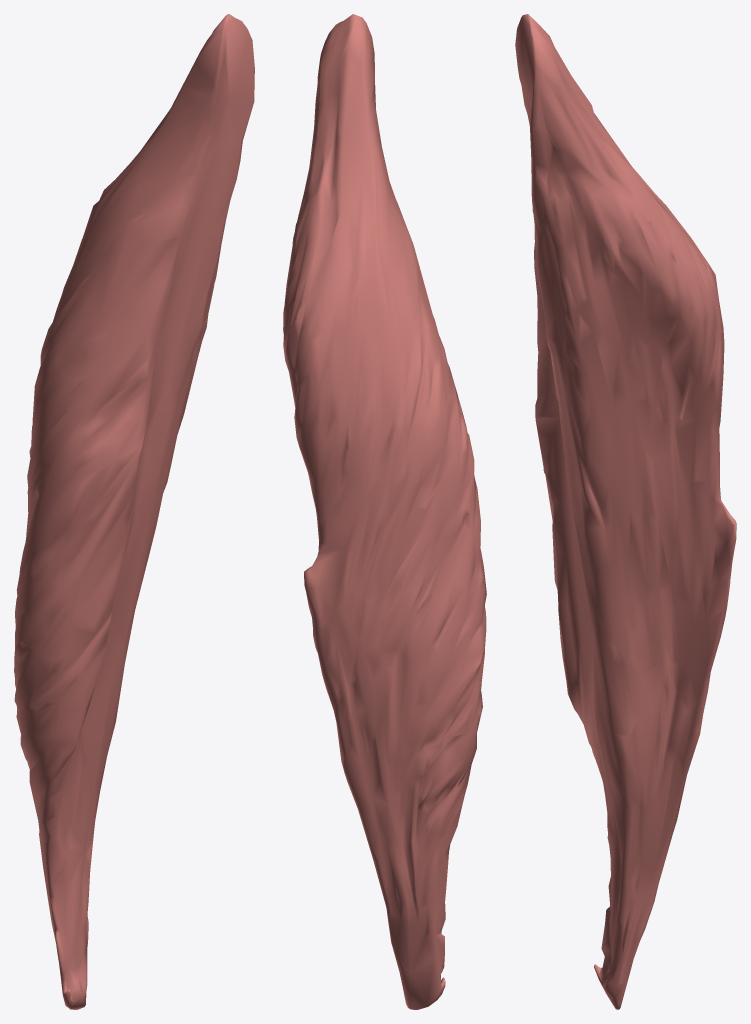
3 renders of one model, left to right at view 1: azimuth 30°, elevation 25°; view 2: azimuth 150°, elevation 25°; view 3: azimuth 270°, elevation 25°, orthographic. The views are drawn at different scales.
Visible parts, largest first — view 1: ZA_8969933cb597044f; view 2: ZA_8969933cb597044f; view 3: ZA_8969933cb597044f.
Boxes of the visible parts, x1,y1,x2,y2 form: ZA_8969933cb597044f: [14, 14, 254, 1009]; ZA_8969933cb597044f: [283, 14, 486, 1009]; ZA_8969933cb597044f: [515, 14, 736, 1009].
Bounding box in the file's own units: 0.0562 × 0.2648 × 0.0507.
